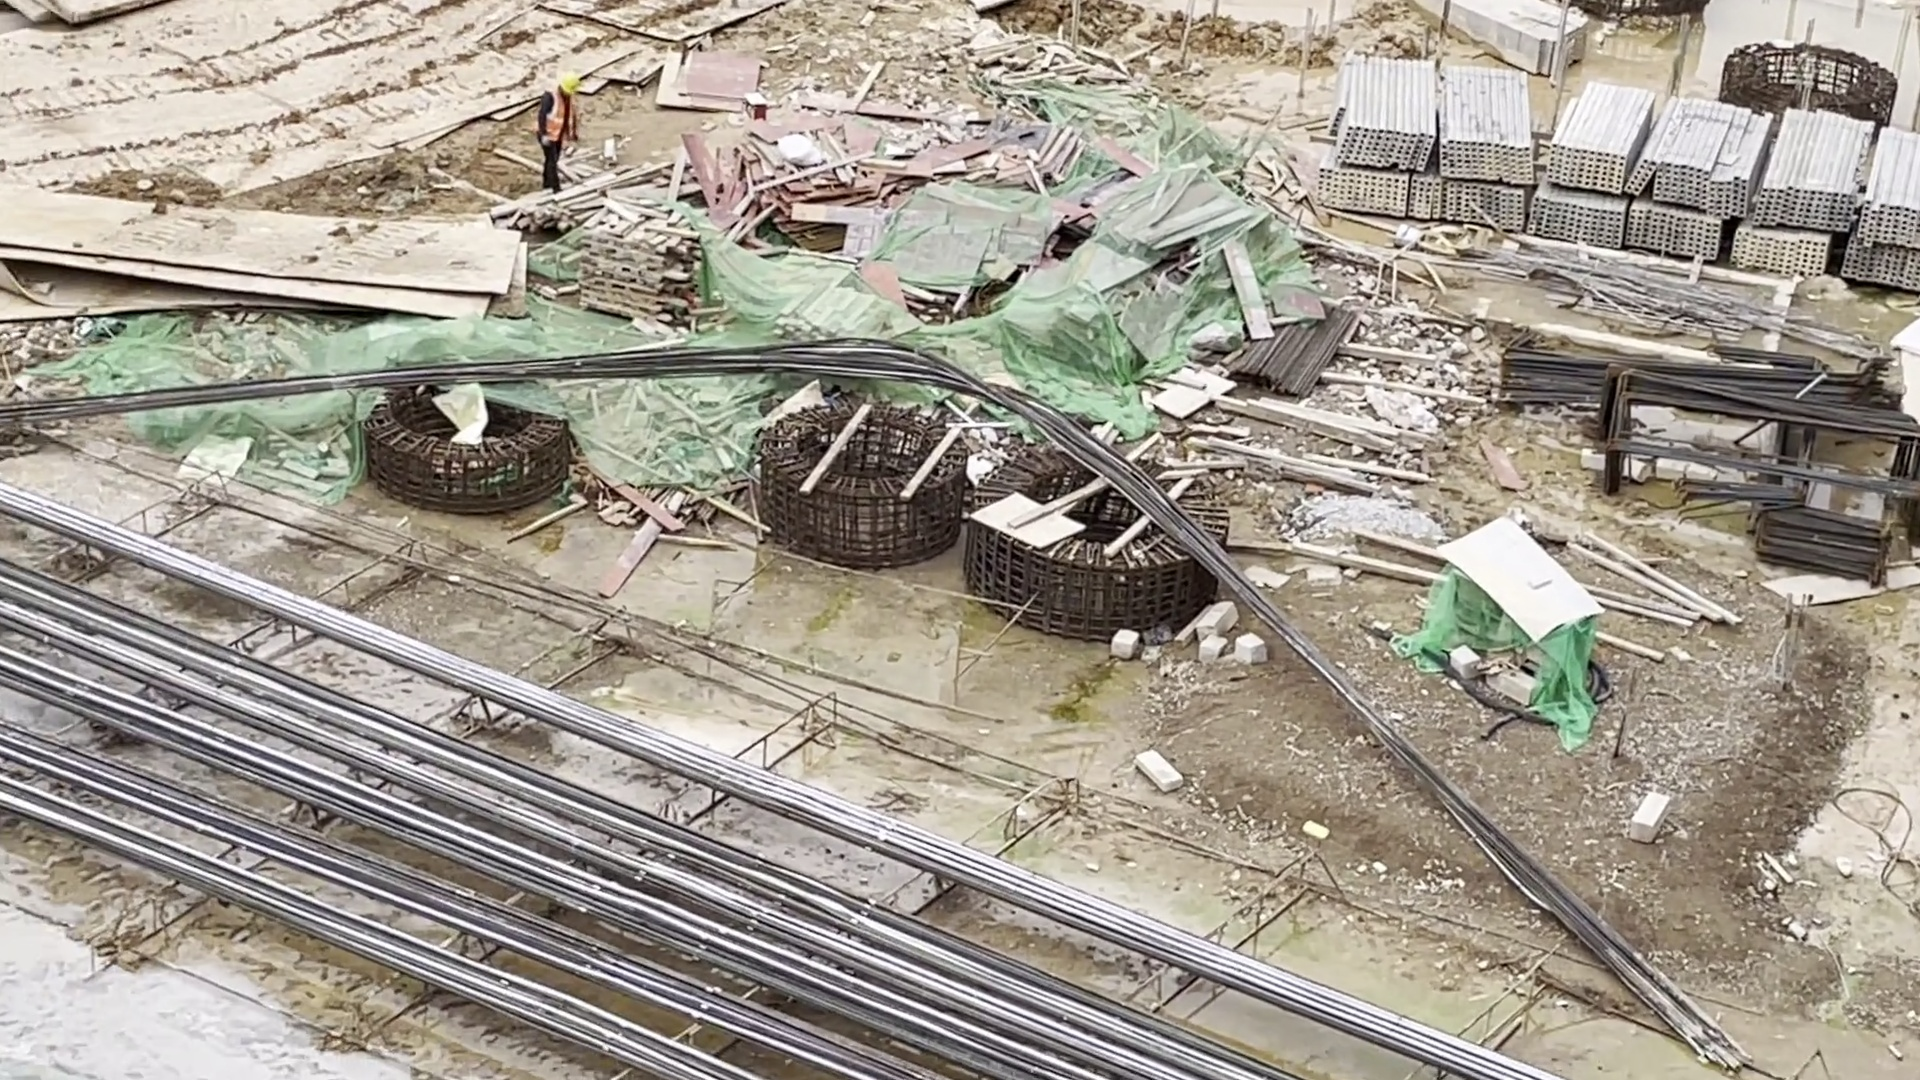board: (687, 109, 1233, 255)
helmet: (561, 77, 581, 99)
person: (539, 67, 583, 189)
rebar: (1, 547, 1017, 1051)
scaffold: (1346, 68, 1920, 288), (1458, 12, 1607, 73)
vest: (543, 100, 583, 155)
